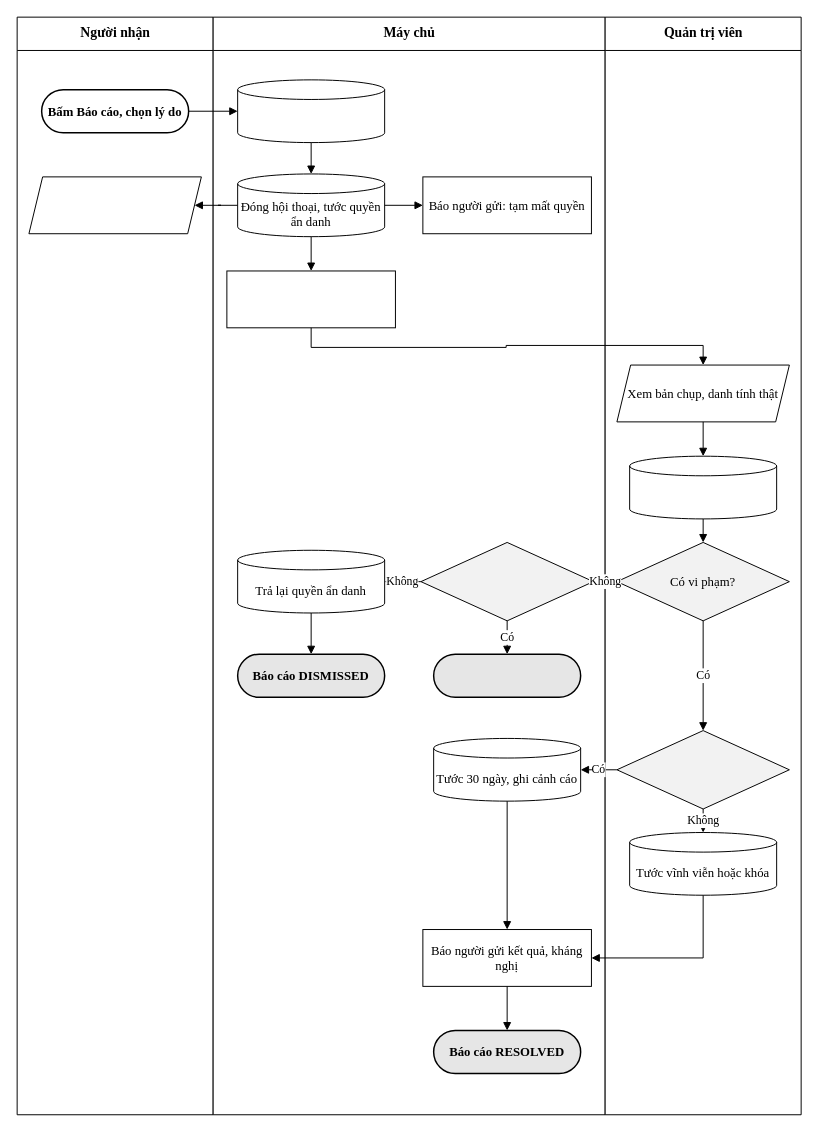
Some shapes in this 818 by 1132 pixel diagram are drawn without their labels. Here are the shapes that lost their labels. From the top down, the box of each, then its label:
(237, 79, 385, 143): Lưu Report, bản chụp 50 tin
(28, 176, 201, 234): Hội thoại đã đóng, đã chặn
(226, 270, 395, 328): Cộng điểm lạm dụng, vào hàng chờ
(629, 455, 777, 519): Ghi nhật ký: ai xem danh tính
(420, 541, 593, 621): Từ 3 người báo/30 ngày?
(432, 653, 581, 698): Giữ tước quyền, xét tay
(616, 730, 789, 809): Lần đầu, mức nhẹ?
